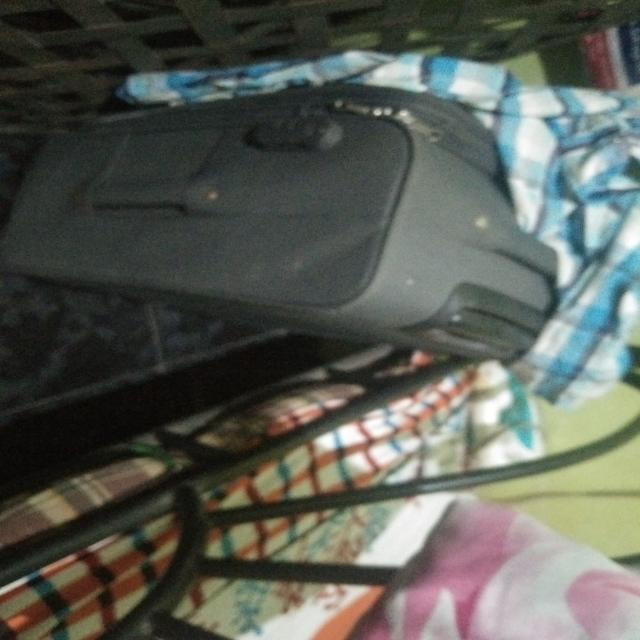suitcaserotation: (0, 78, 562, 364)
